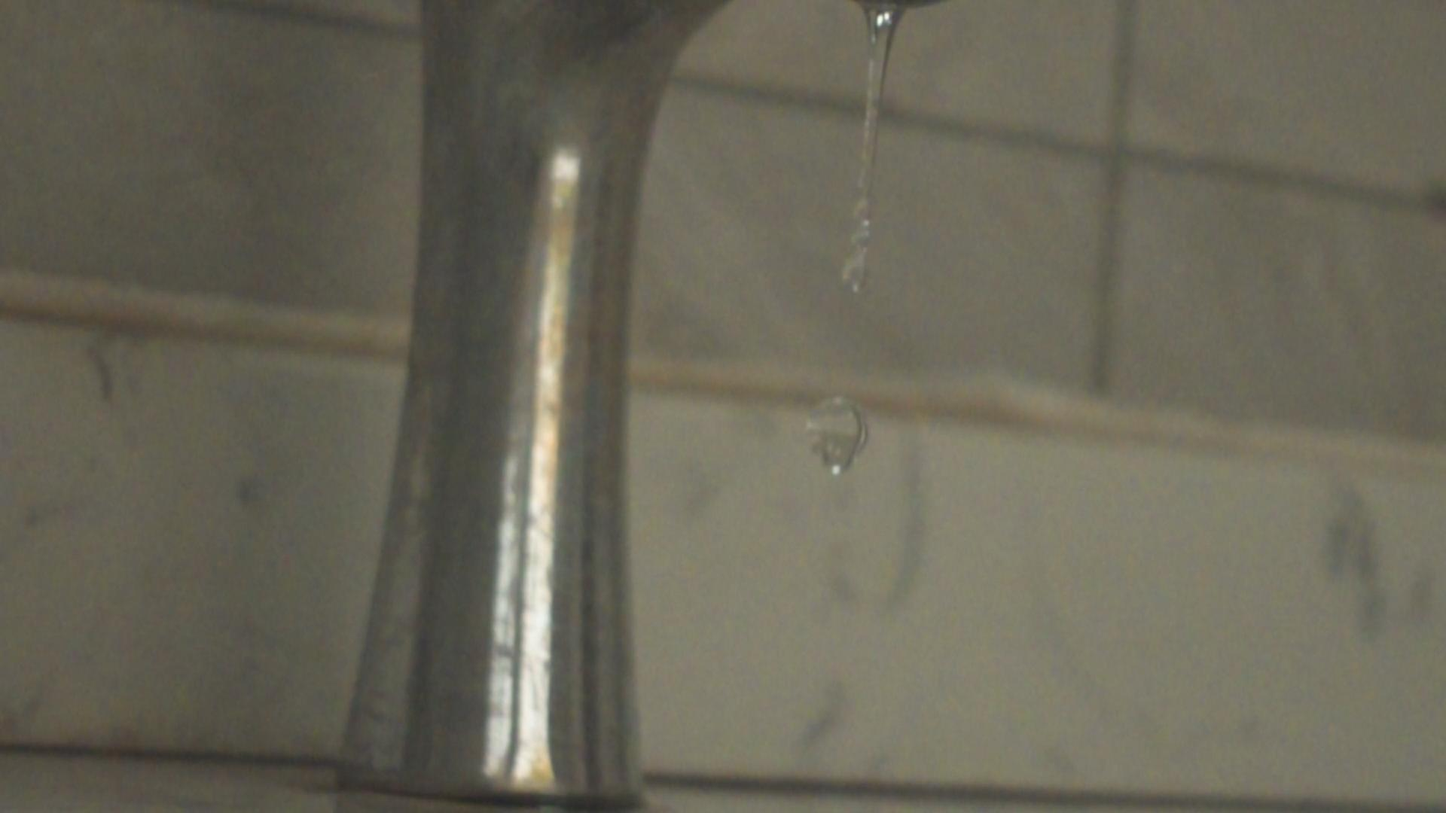water drop: (842, 2, 915, 291), (803, 394, 869, 477)
